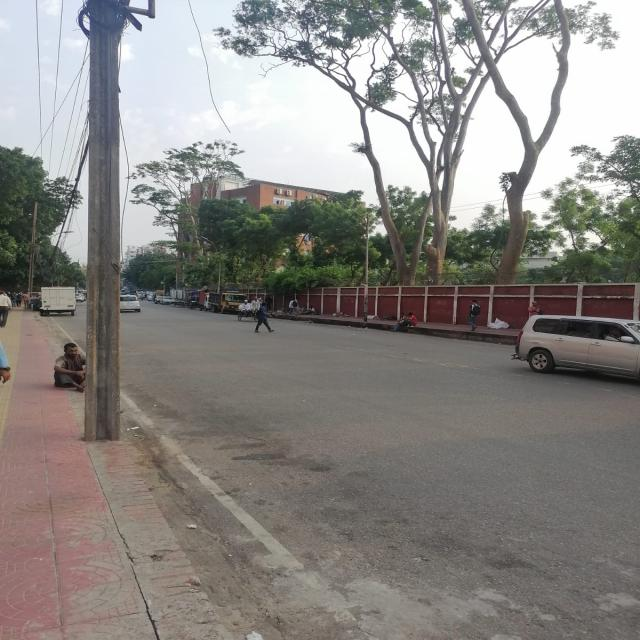person: (254, 302, 274, 333)
